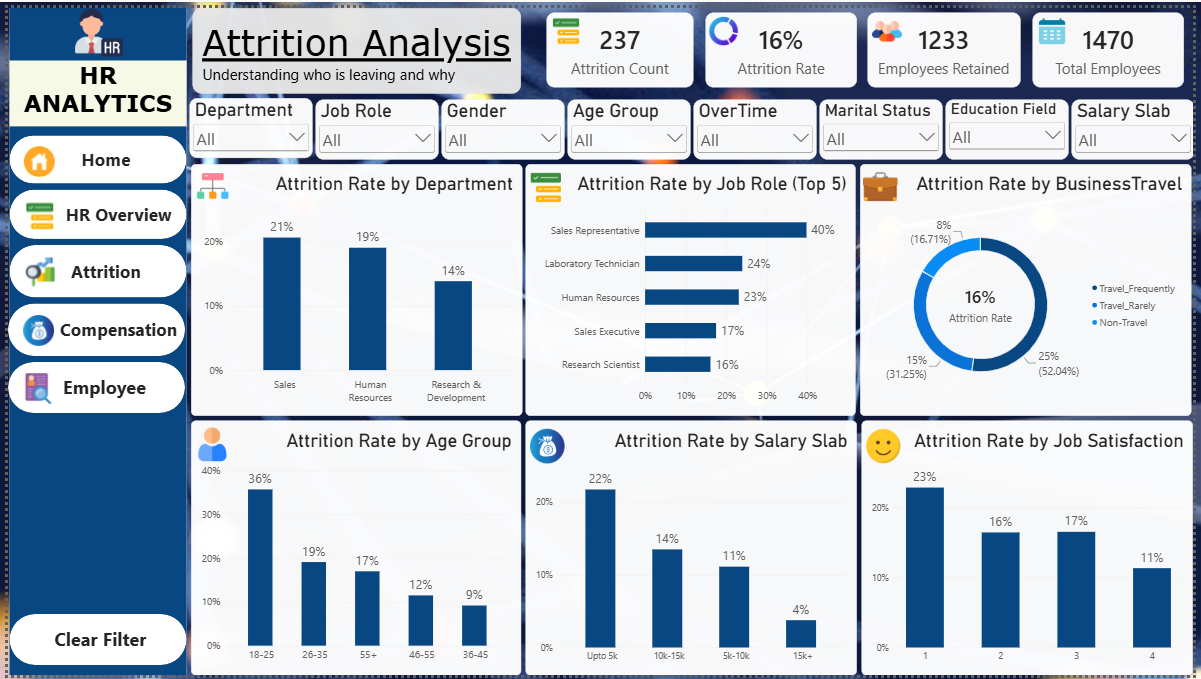

The dashboard page shown, as its layout file describes it:
{"tool":"powerbi","page":{"name":"Attrition Analysis","canvas":[1920,1080],"ordinal":2},"visuals":[{"type":"textbox","box":[298.7,0,531.9,138.4],"z":0},{"type":"card","fields":{"Values":["Measure.Attrition Count"]},"box":[872,7.7,238,121.4],"z":0,"group":"g2"},{"type":"shape","box":[2.4,87.4,286.6,106.9],"z":0,"group":"g8"},{"type":"slicer","fields":{"Values":["Dim_Department.Department"]},"box":[293.9,145.7,199.2,97.2],"z":0,"group":"g3"},{"type":"shape","box":[2.4,0,286.6,1080.8],"z":1000,"group":"g8"},{"type":"card","fields":{"Values":["Measure.Attrition Rate"]},"box":[1129.5,7.7,245.3,121.4],"z":1000,"group":"g2"},{"type":"slicer","fields":{"Values":["Dim_Job.JobRole"]},"box":[497.9,148.1,199.2,97.2],"z":1000,"group":"g3"},{"type":"barChart","title":"Attrition Rate by Job Role (Top 5)","fields":{"Category":["Dim_Job.JobRole"],"Y":["Measure.Attrition Rate"]},"box":[838,252.6,534.3,408],"z":1000,"group":"g7"},{"type":"columnChart","title":"Attrition Rate by Salary Slab","fields":{"Category":["Fact_HR.SalarySlab"],"Y":["Measure.Attrition Rate"]},"box":[838,667.9,536.8,412.9],"z":1000},{"type":"card","fields":{"Values":["Measure.Employees Retained"]},"box":[1391.8,7.7,247.7,121.4],"z":2000,"group":"g2"},{"type":"slicer","fields":{"Values":["Fact_HR.AgeGroup"]},"box":[906,148.1,199.2,97.2],"z":2000,"group":"g3"},{"type":"actionButton","title":"Home","box":[2.4,206.5,286.6,77.7],"z":2000,"group":"g8"},{"type":"columnChart","title":"Attrition Rate by Department","fields":{"Category":["Dim_Department.Department"],"Y":["Measure.Attrition Rate"]},"box":[296.3,253.6,536.8,408],"z":2000,"group":"g5"},{"type":"columnChart","title":"Attrition Rate by Job Satisfaction","fields":{"Category":["Fact_HR.JobSatisfaction"],"Y":["Measure.Attrition Rate"]},"box":[1382,667.9,536.8,412.9],"z":2000},{"type":"group","id":"g1","title":"Group 8","box":[0.4,0,288.6,1080.8],"z":3000},{"type":"card","fields":{"Values":["Measure.Total Employees"]},"box":[1658.9,7.7,245.3,121.4],"z":3000,"group":"g2"},{"type":"textbox","box":[2.4,85,286.6,106.9],"z":3000,"group":"g8"},{"type":"slicer","fields":{"Values":["Dim_Employee.Gender"]},"box":[701.9,148.1,199.2,97.2],"z":3000,"group":"g3"},{"type":"group","id":"g2","title":"Group 2","box":[872,7.7,1032.3,121.4],"z":4000},{"type":"image","box":[1134.3,10.1,48.6,55.9],"z":4000,"group":"g2"},{"type":"slicer","fields":{"Values":["Fact_HR.Overtime_Flag"]},"box":[1110,148.1,199.2,97.2],"z":4000,"group":"g3"},{"type":"actionButton","title":"Home","box":[2.4,293.9,286.6,80.2],"z":4000,"group":"g8"},{"type":"image","box":[1666.2,10,48.6,56.1],"z":5000,"group":"g2"},{"type":"slicer","fields":{"Values":["Dim_Employee.MaritalStatus"]},"box":[1314,148.1,199.2,97.2],"z":5000,"group":"g3"},{"type":"actionButton","title":"Home","box":[2.4,383.8,286.6,85],"z":5000,"group":"g8"},{"type":"columnChart","title":"Attrition Rate by Age Group","fields":{"Category":["Fact_HR.AgeGroup"],"Y":["Measure.Attrition Rate"]},"box":[296.3,667.9,534.3,412.9],"z":5000,"group":"g4"},{"type":"image","box":[845.2,680.1,55.9,58.3],"z":5000},{"type":"image","box":[1399.1,10,48.6,56.1],"z":6000,"group":"g2"},{"type":"slicer","fields":{"Values":["Dim_Education.EducationField"]},"box":[1518,148.1,199.2,97.2],"z":6000,"group":"g3"},{"type":"image","box":[1389.3,680.1,55.9,58.3],"z":6000},{"type":"image","box":[879.3,10.1,48.6,55.9],"z":7000,"group":"g2"},{"type":"group","id":"g3","title":"Group 3","box":[293.9,145.7,1627.3,99.6],"z":7000},{"type":"slicer","fields":{"Values":["Fact_HR.SalarySlab"]},"box":[1722.1,148.1,199.2,97.2],"z":7000,"group":"g3"},{"type":"actionButton","title":"Home","box":[1.3,478.5,286.6,85],"z":7000,"group":"g8"},{"type":"group","id":"g4","title":"Group 4","box":[296.3,667.9,534.3,412.9],"z":8000},{"type":"group","id":"g5","title":"Group 5","box":[296.3,253.6,536.8,408],"z":9000},{"type":"actionButton","title":"Home","box":[2.4,981.3,286.6,82.6],"z":9000,"group":"g8"},{"type":"group","id":"g6","title":"Group 6","box":[838,252.6,534.3,408],"z":10000},{"type":"actionButton","title":"Home","box":[0.4,573.2,286.6,82.6],"z":10000,"group":"g8"},{"type":"group","id":"g7","title":"Group 7","box":[838,252.6,534.3,408],"z":10001,"group":"g6"},{"type":"donutChart","fields":{"Category":["Dim_Travel.BusinessTravel"],"Y":["Measure.Attrition Rate"]},"box":[1379.6,252.6,536.8,408],"z":10001},{"type":"image","box":[1384.4,259.9,55.9,58.3],"z":10002},{"type":"group","id":"g8","title":"Group 1","box":[0.4,0,288.6,1080.8],"z":11001,"group":"g1"},{"type":"image","box":[89.8,0,114.2,80.2],"z":11501,"group":"g1"},{"type":"image","box":[842.7,261,55.9,61.2],"z":14000,"group":"g7"},{"type":"image","box":[303.6,258.7,55.9,61.2],"z":18000,"group":"g5"},{"type":"image","box":[303.4,675.2,54.6,63.1],"z":19508,"group":"g4"}]}

Visuals, with their boxes in screenshot pixels (x1, y1, x2, y2), scaled from the page's 1920x1080 canvas onto the 1201x679 screenshot:
textbox: crop(187, 0, 520, 87)
card - Measure.Attrition Count: crop(545, 5, 694, 81)
shape: crop(2, 55, 181, 122)
slicer - Dim_Department.Department: crop(184, 92, 308, 153)
shape: crop(2, 0, 181, 678)
card - Measure.Attrition Rate: crop(707, 5, 860, 81)
slicer - Dim_Job.JobRole: crop(311, 93, 436, 154)
"Attrition Rate by Job Role (Top 5)" barChart: crop(524, 159, 858, 415)
"Attrition Rate by Salary Slab" columnChart: crop(524, 420, 860, 678)
card - Measure.Employees Retained: crop(871, 5, 1026, 81)
slicer - Fact_HR.AgeGroup: crop(567, 93, 691, 154)
"Home" actionButton: crop(2, 130, 181, 179)
"Attrition Rate by Department" columnChart: crop(185, 159, 521, 416)
"Attrition Rate by Job Satisfaction" columnChart: crop(864, 420, 1200, 678)
"Group 8" group: crop(0, 0, 181, 678)
card - Measure.Total Employees: crop(1038, 5, 1191, 81)
textbox: crop(2, 53, 181, 121)
slicer - Dim_Employee.Gender: crop(439, 93, 564, 154)
"Group 2" group: crop(545, 5, 1191, 81)
image: crop(710, 6, 740, 41)
slicer - Fact_HR.Overtime_Flag: crop(694, 93, 819, 154)
"Home" actionButton: crop(2, 185, 181, 235)
image: crop(1042, 6, 1073, 42)
slicer - Dim_Employee.MaritalStatus: crop(822, 93, 947, 154)
"Home" actionButton: crop(2, 241, 181, 295)
"Attrition Rate by Age Group" columnChart: crop(185, 420, 520, 678)
image: crop(529, 428, 564, 464)
image: crop(875, 6, 906, 42)
slicer - Dim_Education.EducationField: crop(950, 93, 1074, 154)
image: crop(869, 428, 904, 464)
image: crop(550, 6, 580, 41)
"Group 3" group: crop(184, 92, 1200, 154)
slicer - Fact_HR.SalarySlab: crop(1077, 93, 1200, 154)
"Home" actionButton: crop(1, 301, 180, 354)
"Group 4" group: crop(185, 420, 520, 678)
"Group 5" group: crop(185, 159, 521, 416)
"Home" actionButton: crop(2, 617, 181, 669)
"Group 6" group: crop(524, 159, 858, 415)
"Home" actionButton: crop(0, 360, 180, 412)
"Group 7" group: crop(524, 159, 858, 415)
donutChart - Dim_Travel.BusinessTravel x Measure.Attrition Rate: crop(863, 159, 1199, 415)
image: crop(866, 163, 901, 200)
"Group 1" group: crop(0, 0, 181, 678)
image: crop(56, 0, 128, 50)
image: crop(527, 164, 562, 203)
image: crop(190, 163, 225, 201)
image: crop(190, 425, 224, 464)
